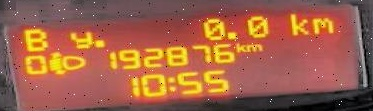-: (225, 28, 238, 39), (93, 37, 106, 47)
0: (243, 14, 272, 38), (195, 16, 225, 39), (139, 73, 165, 97), (21, 53, 48, 74)
1: (128, 74, 139, 98), (105, 50, 117, 70)
2: (142, 45, 164, 67)
5: (202, 67, 233, 94), (175, 70, 202, 94)
6: (212, 40, 233, 64)
7: (189, 43, 212, 64)
8: (164, 44, 187, 65)
9: (117, 46, 140, 70)
X: (18, 26, 50, 51), (285, 10, 309, 38), (310, 15, 337, 36), (67, 29, 94, 49), (165, 75, 178, 93), (245, 43, 266, 52), (233, 40, 246, 52)
